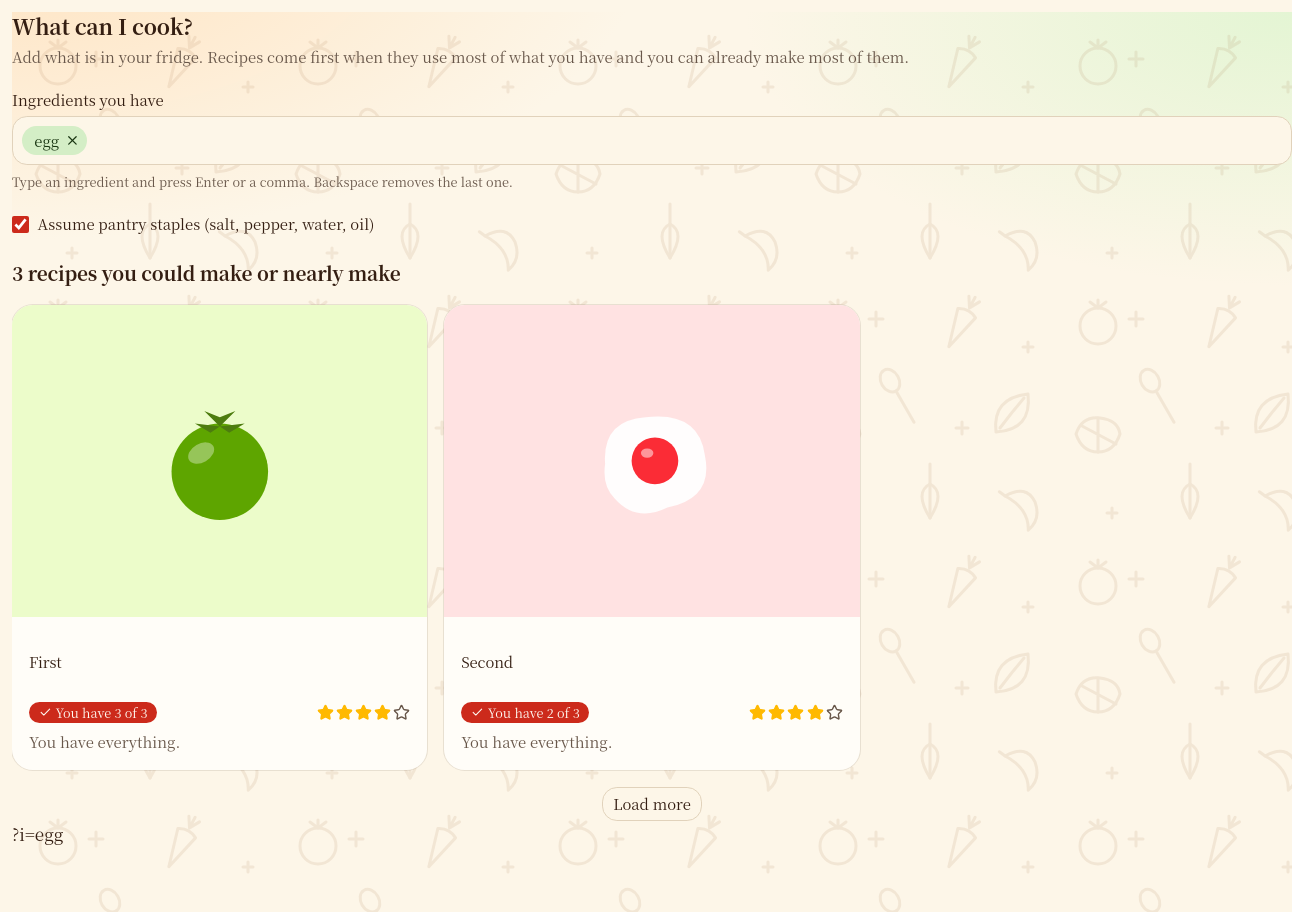
MatchPage › loads more results on request
Click the button "Load more". click: (652, 804)
box: [602, 787, 702, 821]
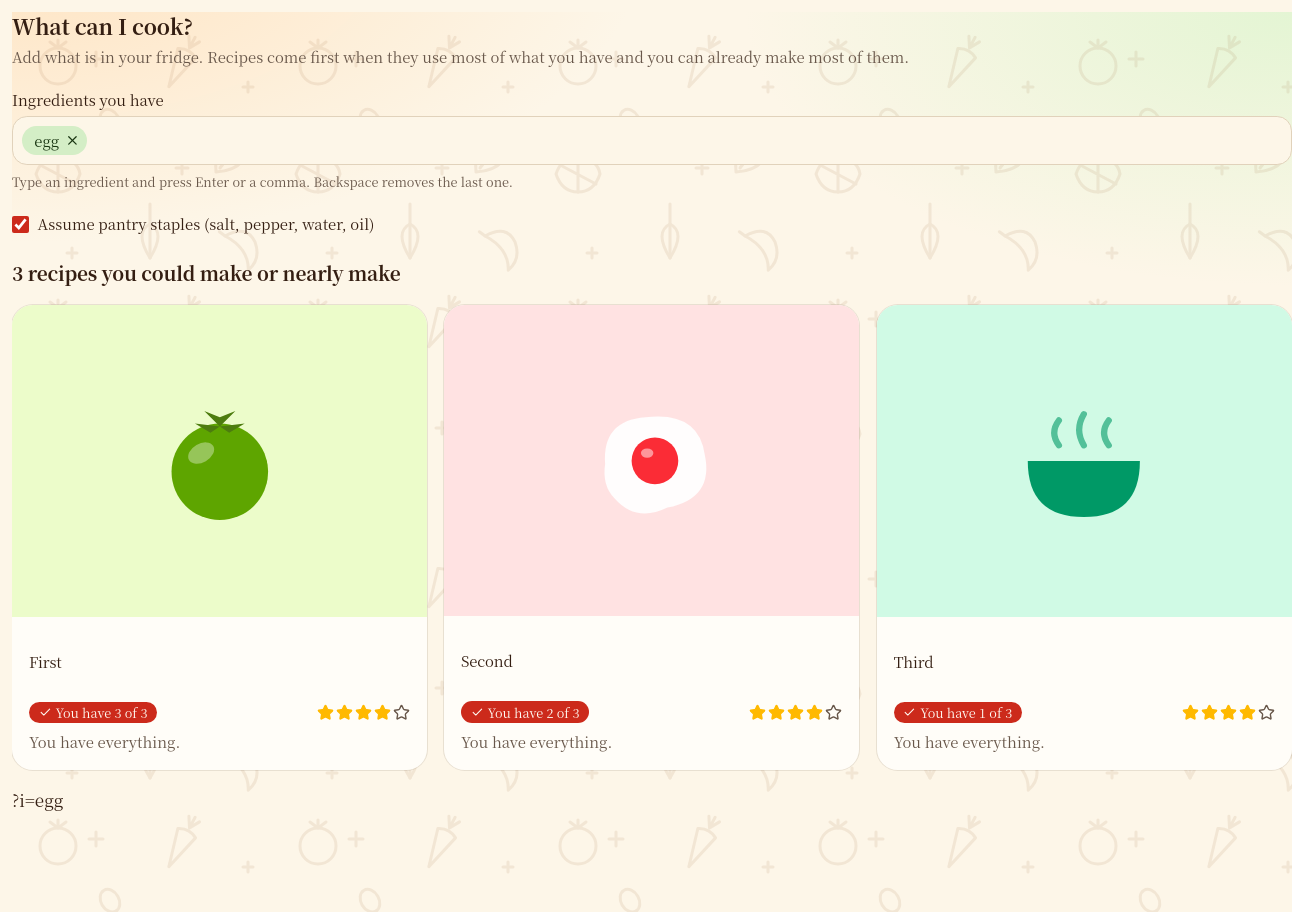
Expected: the heading "First" is shown, [29, 651, 62, 672]
Result: the heading "Third" is shown at [894, 651, 934, 672]
Result: the button "Load more" is gone
